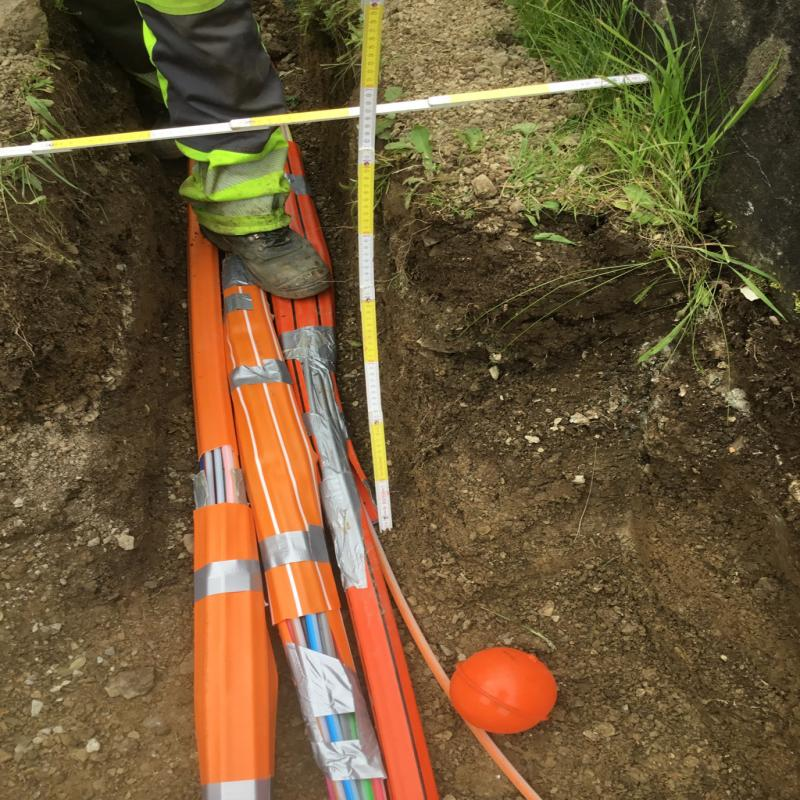Kugelmarker: (442, 647, 559, 734)
Orang-Speednetrohrchen: (189, 213, 447, 798)
